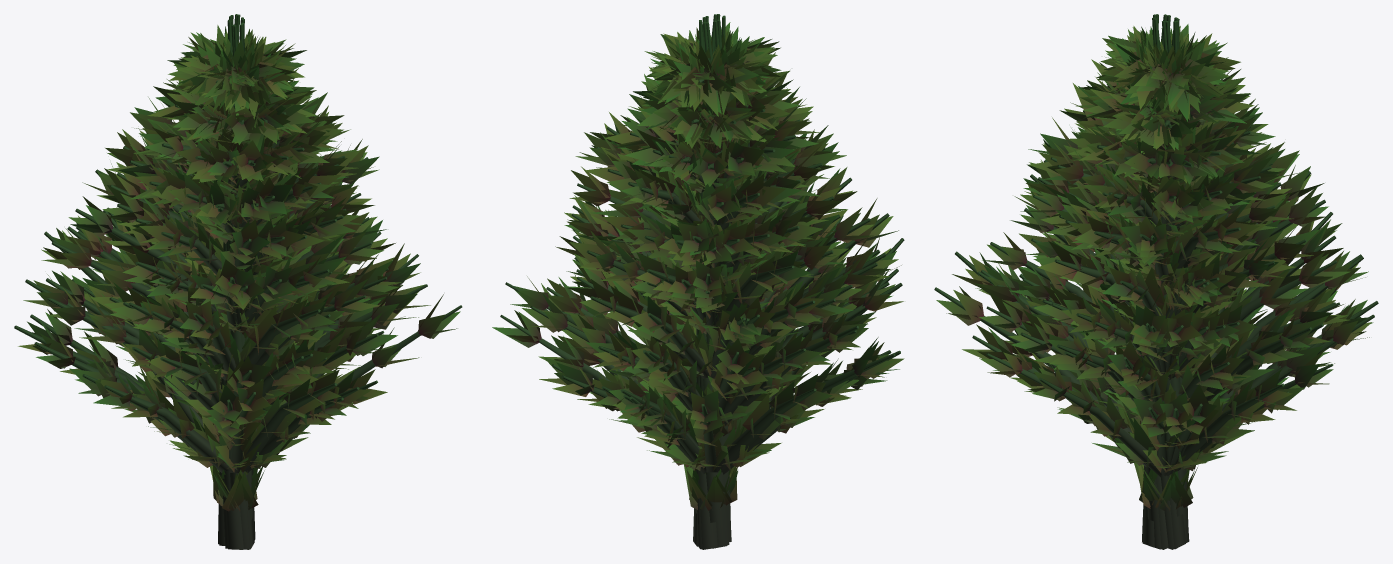
Rendered from foliage-high.glb.
3 renders of one model, left to right at view 1: azimuth 30°, elevation 25°; view 2: azimuth 150°, elevation 25°; view 3: azimuth 270°, elevation 25°, orthographic.
Visible parts, largest first — view 1: Exact detailed foliage template 06, Exact detailed foliage template 03, Exact detailed foliage template 11, Exact detailed foliage template 01, Exact detailed foliage template 05, Exact detailed foliage template 10, Exact detailed foliage template 04, Exact detailed foliage template 02, Exact detailed foliage template 00, Exact detailed foliage template 07, Exact detailed foliage template 08, Exact detailed foliage template 09; view 2: Exact detailed foliage template 06, Exact detailed foliage template 05, Exact detailed foliage template 10, Exact detailed foliage template 01, Exact detailed foliage template 11, Exact detailed foliage template 03, Exact detailed foliage template 08, Exact detailed foliage template 07, Exact detailed foliage template 00, Exact detailed foliage template 04, Exact detailed foliage template 02, Exact detailed foliage template 09; view 3: Exact detailed foliage template 06, Exact detailed foliage template 05, Exact detailed foliage template 07, Exact detailed foliage template 03, Exact detailed foliage template 02, Exact detailed foliage template 01, Exact detailed foliage template 00, Exact detailed foliage template 10, Exact detailed foliage template 04, Exact detailed foliage template 09, Exact detailed foliage template 08, Exact detailed foliage template 11.
Part boxes in pixels (x1,y1,x2,y2): Exact detailed foliage template 06: (30,25,462,454); Exact detailed foliage template 03: (41,14,418,549); Exact detailed foliage template 11: (23,22,402,545); Exact detailed foliage template 01: (41,19,398,486); Exact detailed foliage template 05: (114,24,383,544); Exact detailed foliage template 10: (46,17,430,549); Exact detailed foliage template 04: (47,18,420,548); Exact detailed foliage template 02: (81,15,397,539); Exact detailed foliage template 00: (34,24,405,471); Exact detailed foliage template 07: (14,21,401,478); Exact detailed foliage template 08: (69,16,379,499); Exact detailed foliage template 09: (103,14,395,549); Exact detailed foliage template 06: (505,15,892,549); Exact detailed foliage template 05: (546,14,903,548); Exact detailed foliage template 10: (555,17,898,522); Exact detailed foliage template 01: (492,20,899,499); Exact detailed foliage template 11: (565,14,880,545); Exact detailed foliage template 03: (566,20,898,482); Exact detailed foliage template 08: (541,22,888,470); Exact detailed foliage template 07: (552,19,895,546); Exact detailed foliage template 00: (522,16,904,549); Exact detailed foliage template 04: (559,16,898,542); Exact detailed foliage template 02: (552,22,904,474); Exact detailed foliage template 09: (539,21,889,473); Exact detailed foliage template 06: (982,14,1343,520); Exact detailed foliage template 05: (993,17,1378,484); Exact detailed foliage template 07: (974,14,1349,549); Exact detailed foliage template 03: (934,21,1366,542); Exact detailed foliage template 02: (952,18,1333,549); Exact detailed foliage template 01: (979,15,1365,549); Exact detailed foliage template 00: (1008,14,1330,542); Exact detailed foliage template 10: (988,21,1374,473); Exact detailed foliage template 04: (979,20,1361,467); Exact detailed foliage template 09: (1002,20,1368,547); Exact detailed foliage template 08: (975,17,1347,549); Exact detailed foliage template 11: (962,18,1343,471).
Size of the model in its own units: 0.7466 by 1 by 0.7694.
